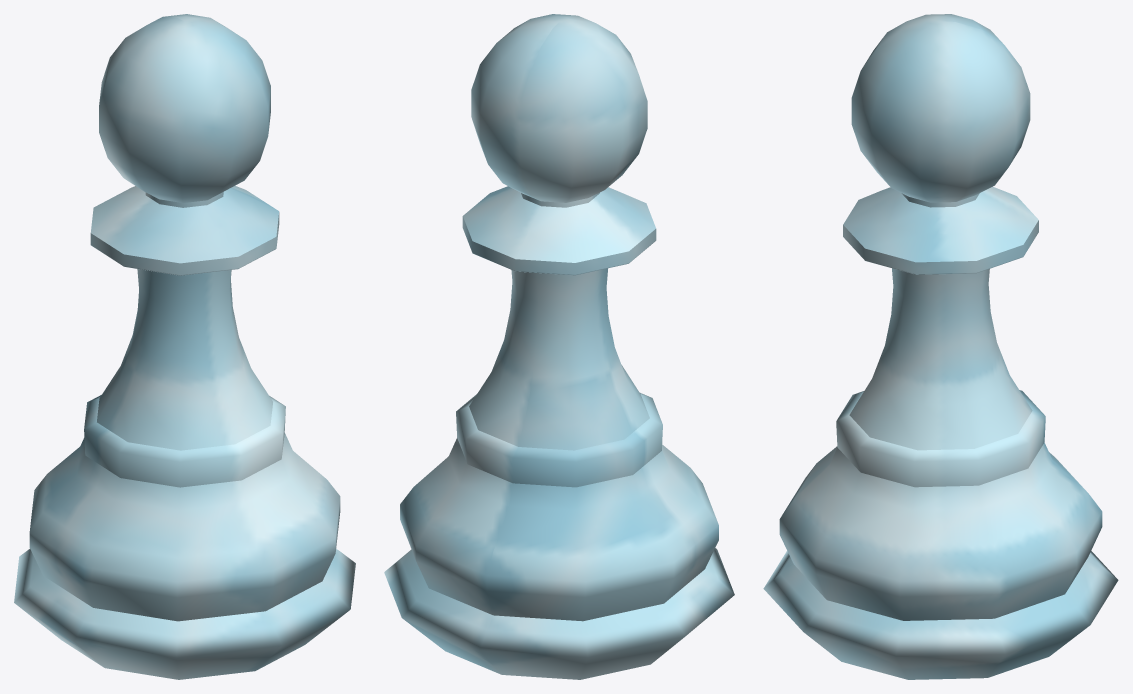
File: item-0-2.glb
3 renders of one model, left to right at view 1: azimuth 30°, elevation 25°; view 2: azimuth 150°, elevation 25°; view 3: azimuth 270°, elevation 25°, orthographic.
Parts seen in each view (by area): view 1: BlackPawn; view 2: BlackPawn; view 3: BlackPawn.
Part boxes in pixels (<box>): BlackPawn: <box>14,14,355,679</box>; BlackPawn: <box>384,14,734,679</box>; BlackPawn: <box>763,14,1118,679</box>.
Bounding box in the file's own units: 0.0889 × 0.1731 × 0.0918.
1 material, 1 textured.
